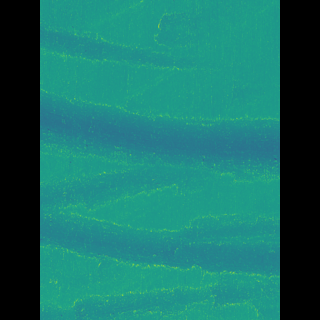Loch: (69, 170, 250, 284), (69, 83, 249, 186), (68, 19, 186, 75), (68, 286, 250, 319)
